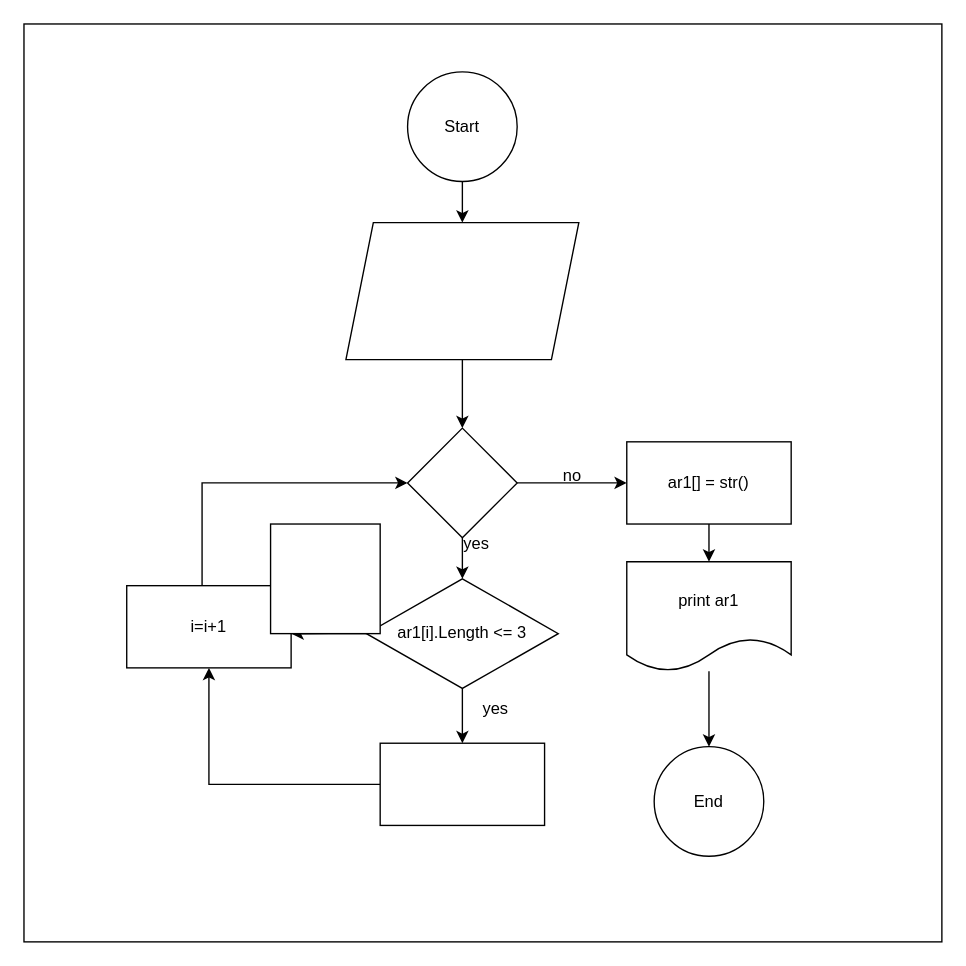
Some shapes in this 966 by 966 pixel diagram are drawn without their labels. Each missing label, with the centre of its shape:
ar[] size=n str = 0: the point at 462,290
i < size: the point at 461,482
str = str + ar1[i]: the point at 462,783
